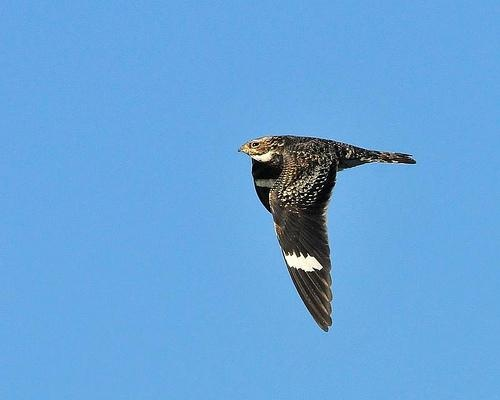bird: (236, 131, 418, 331)
